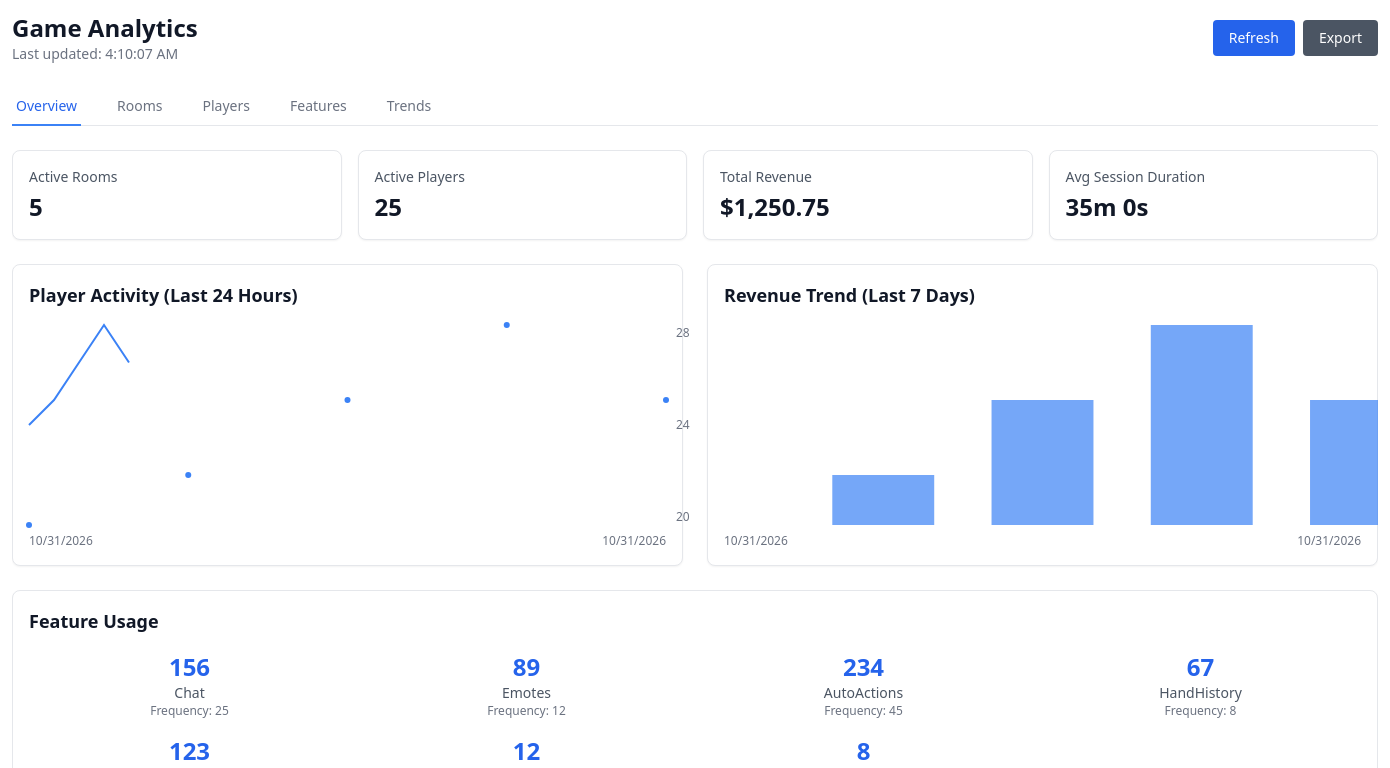
Test: GameAnalyticsDashboard › Rooms Tab Content › should display room statistics table
Click the button "Rooms".
click(140, 107)  # box [113,88,167,126]
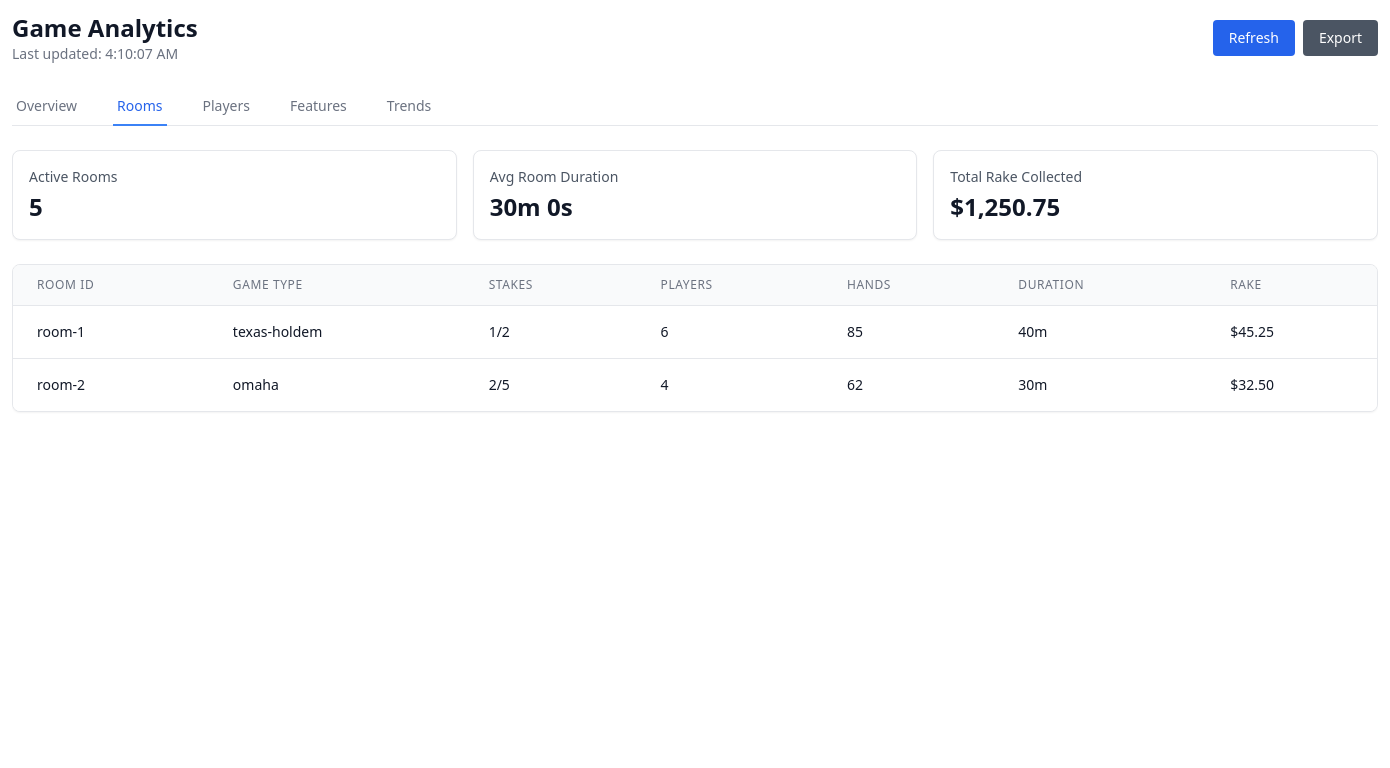
Expected: the table is shown, [13,265,1377,411]
Expected: the text "room-1" is shown, [13,306,209,358]
Expected: the text "texas-holdem" is shown, [209,306,465,358]
